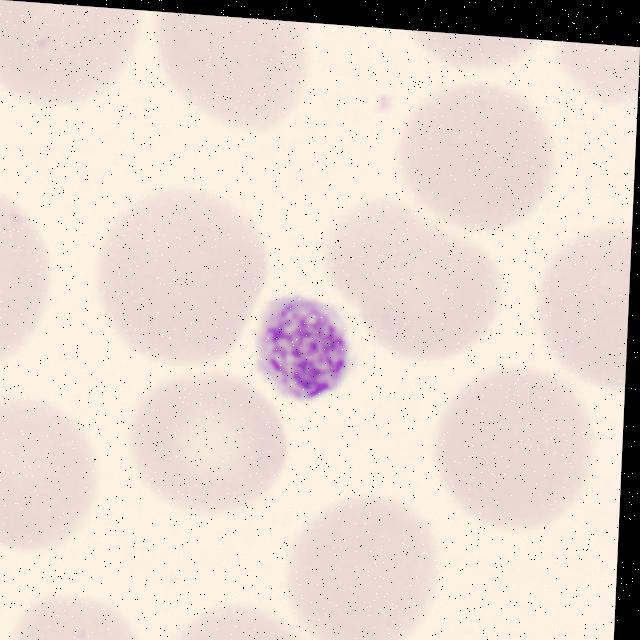platelets: (252, 292, 366, 421)
rbc: (85, 174, 275, 376), (302, 191, 518, 363), (430, 354, 610, 558), (275, 484, 458, 640), (120, 371, 294, 535), (389, 79, 557, 246), (138, 11, 318, 139), (0, 379, 109, 562), (534, 216, 632, 400), (0, 0, 150, 115), (0, 173, 62, 374), (10, 588, 190, 640), (401, 30, 549, 88), (166, 592, 342, 640), (541, 40, 640, 120)
